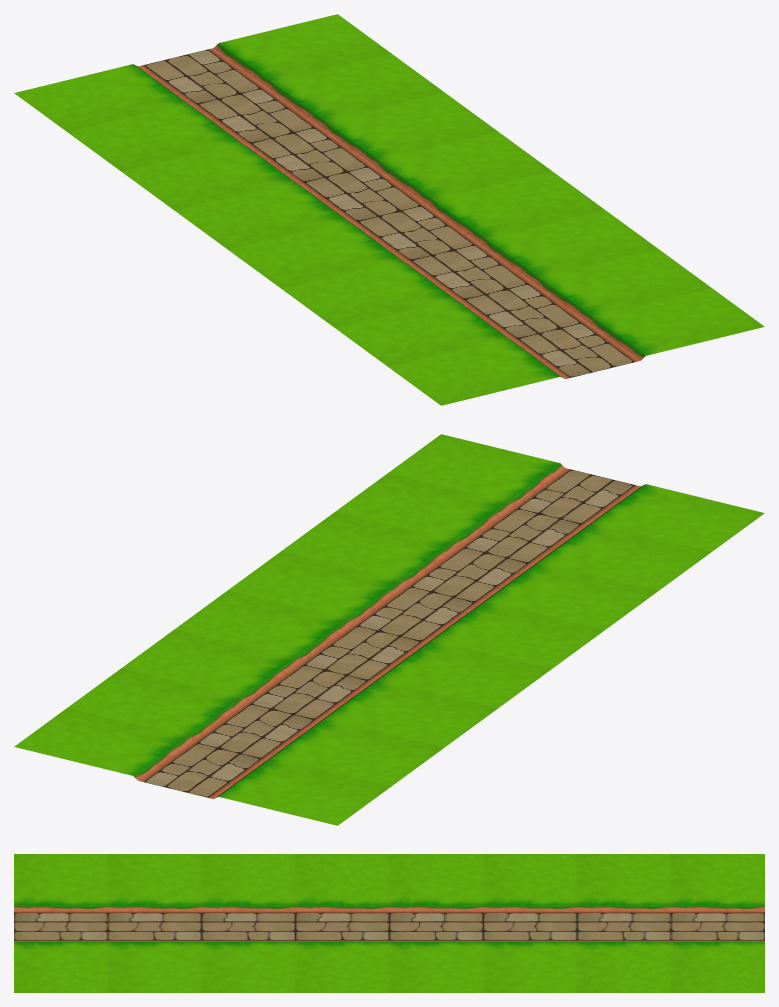
The model's file is paodao_01.FBX.
3 renders of one model, top to bottom at view 1: azimuth 30°, elevation 25°; view 2: azimuth 150°, elevation 25°; view 3: azimuth 270°, elevation 25°, orthographic. The views are drawn at different scales.
Parts seen in each view (by area): view 1: paodao_01; view 2: paodao_01; view 3: paodao_01.
Boxes of the visible parts, x1=… form: paodao_01: x1=14, y1=14, x2=764, y2=405; paodao_01: x1=14, y1=434, x2=764, y2=825; paodao_01: x1=14, y1=854, x2=764, y2=992.
Bounding box in the file's own units: 1400 × 3200 × 15.
